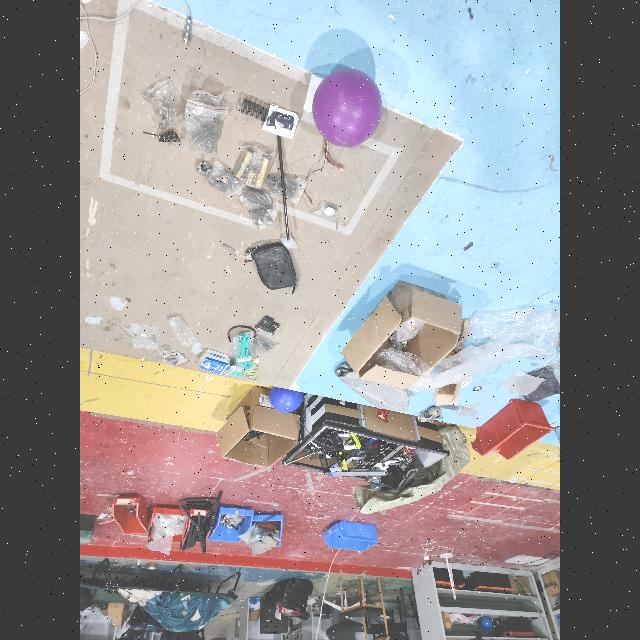B: (268, 376, 306, 414)
P: (312, 68, 383, 148)
